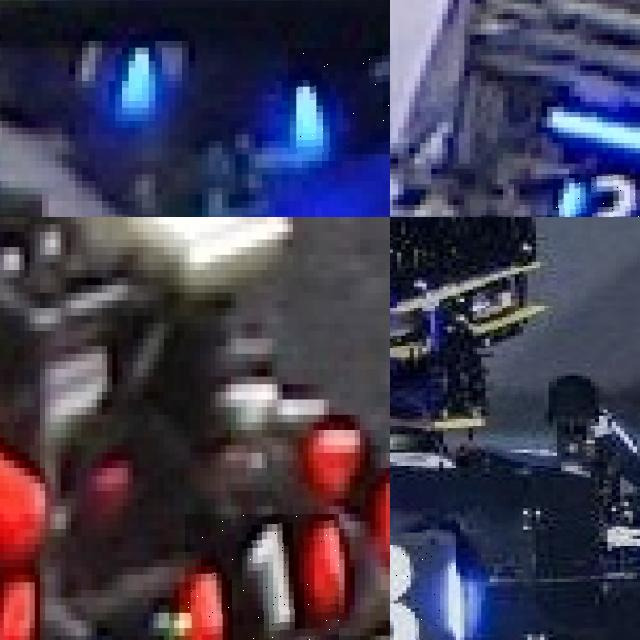B1: (288, 47, 390, 154)
B2: (552, 173, 640, 217)
B3: (390, 545, 455, 640)
R1: (184, 513, 339, 640), (0, 506, 34, 640)
